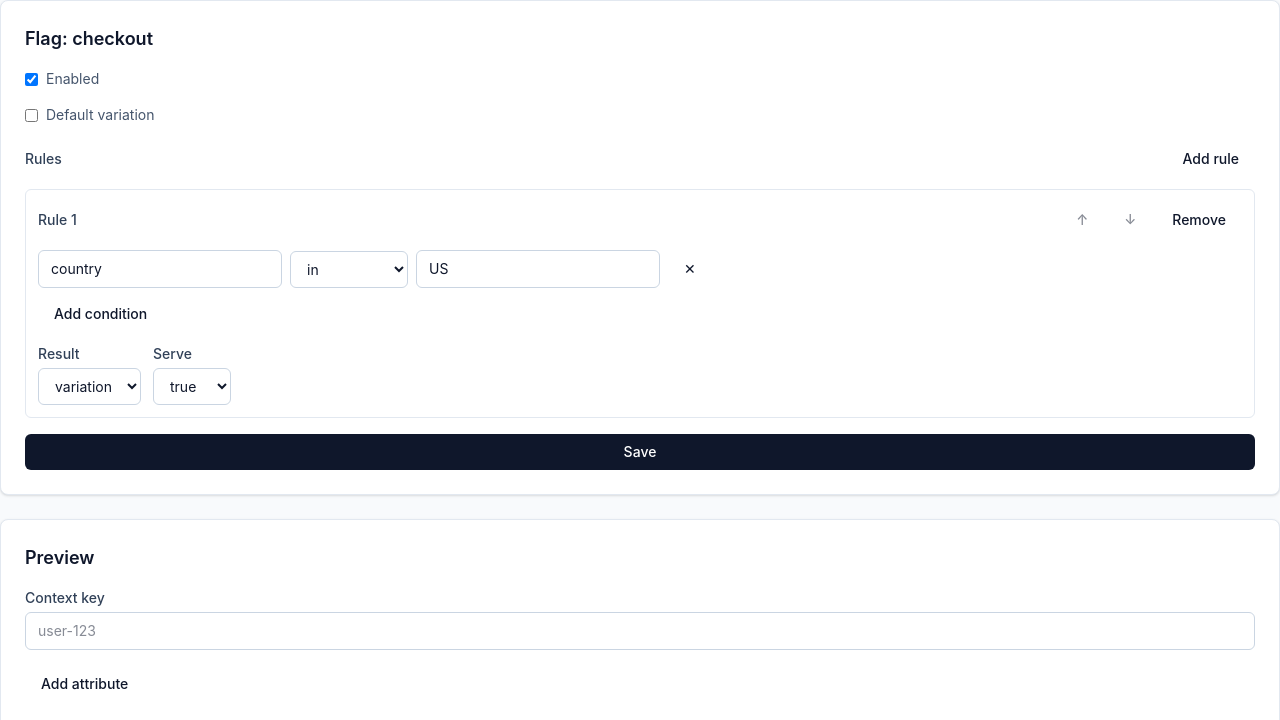
Test: FlagEditorRoute › runs preview with the current draft and renders value + reason
Expected: the checkbox labelled "Enabled" is shown, [25,72,38,86]
Type "u1" into the field labelled "Context key" at (640, 631), box [25,612,1255,650]
(page scrolled)
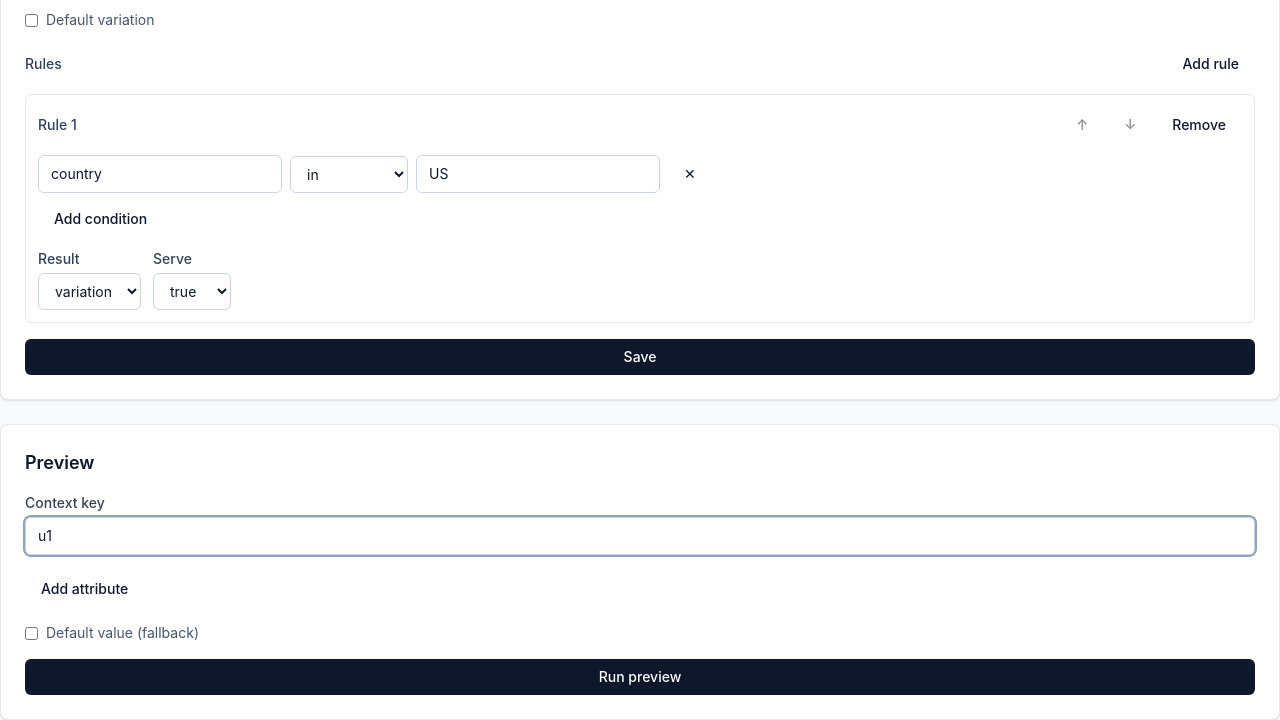
Click the button "Run preview" at (640, 677), box [25,659,1255,695]
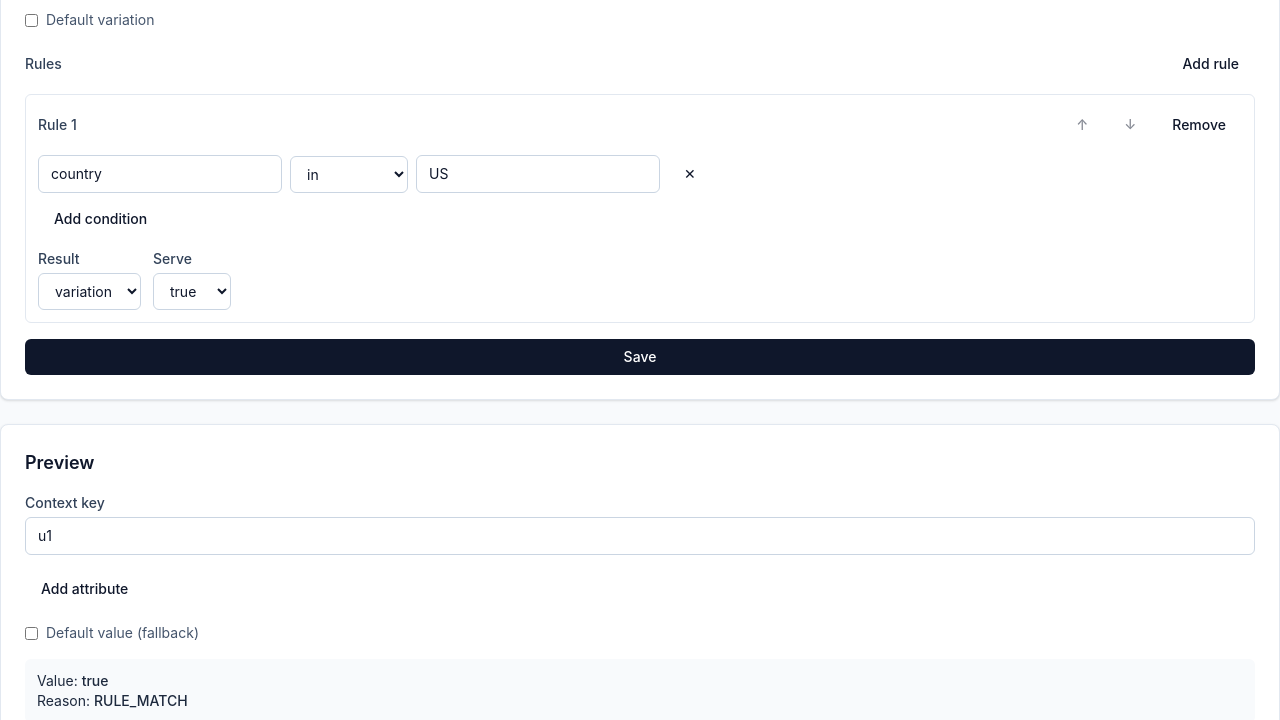
Result: the text "RULE_MATCH" is shown at [94,692,188,709]
Result: the text "true" is shown at [82,672,108,689]
